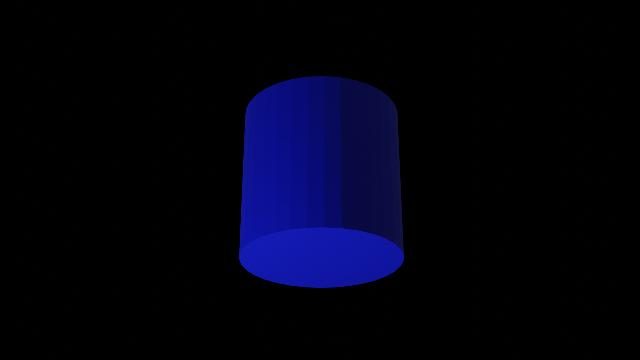Cylinder: (222, 70, 420, 298)
